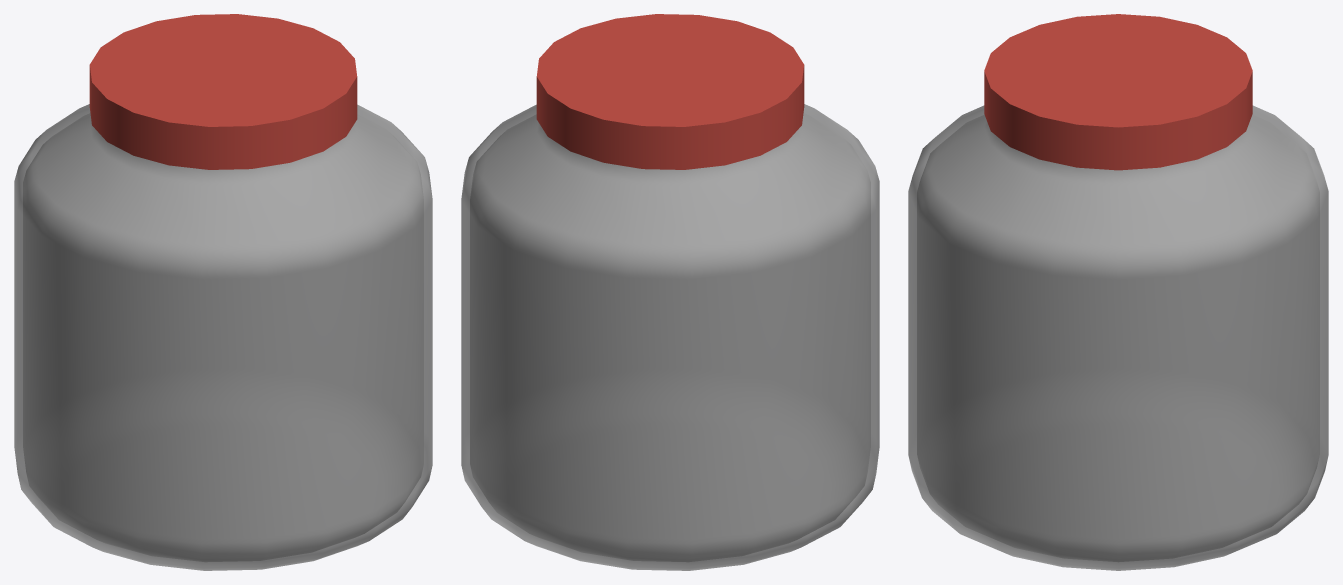
Rendered from Cookie_Jar.fbx.
3 renders of one model, left to right at view 1: azimuth 30°, elevation 25°; view 2: azimuth 150°, elevation 25°; view 3: azimuth 270°, elevation 25°, orthographic.
Visible parts, largest first — view 1: Cookie_Jar; view 2: Cookie_Jar; view 3: Cookie_Jar.
Boxes of the visible parts, x1,y1,x2,y2 form: Cookie_Jar: [14, 14, 432, 570]; Cookie_Jar: [461, 14, 879, 570]; Cookie_Jar: [908, 14, 1328, 570].
Size of the model in its own units: 4.89 by 5.49 by 4.89.
